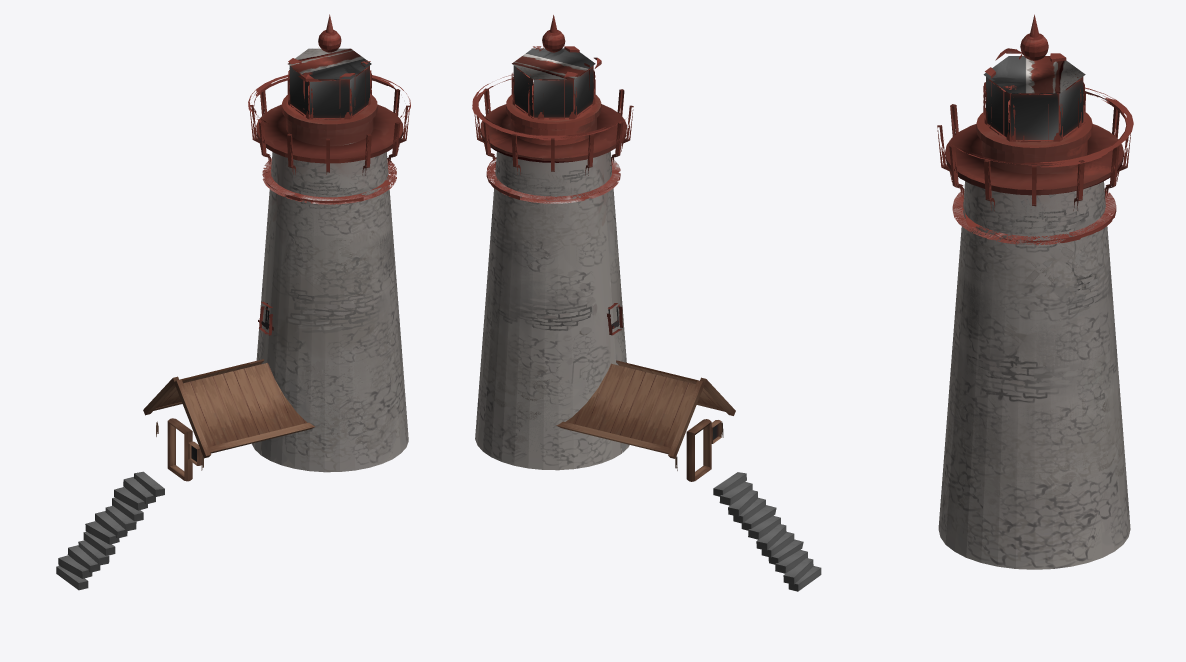
File: Lighthouse05.fbx
3 renders of one model, left to right at view 1: azimuth 30°, elevation 25°; view 2: azimuth 150°, elevation 25°; view 3: azimuth 270°, elevation 25°, orthographic. The views are drawn at different scales.
Parts seen in each view (by area): view 1: Lighthouse05; view 2: Lighthouse05; view 3: Lighthouse05.
Part boxes in pixels (left/top/right/bottom): Lighthouse05: left=56, top=14, right=410, bottom=590; Lighthouse05: left=472, top=15, right=821, bottom=591; Lighthouse05: left=937, top=14, right=1133, bottom=569.
Bounding box in the file's own units: 19.48 × 26.86 × 10.53.
6 materials, 6 textured.
